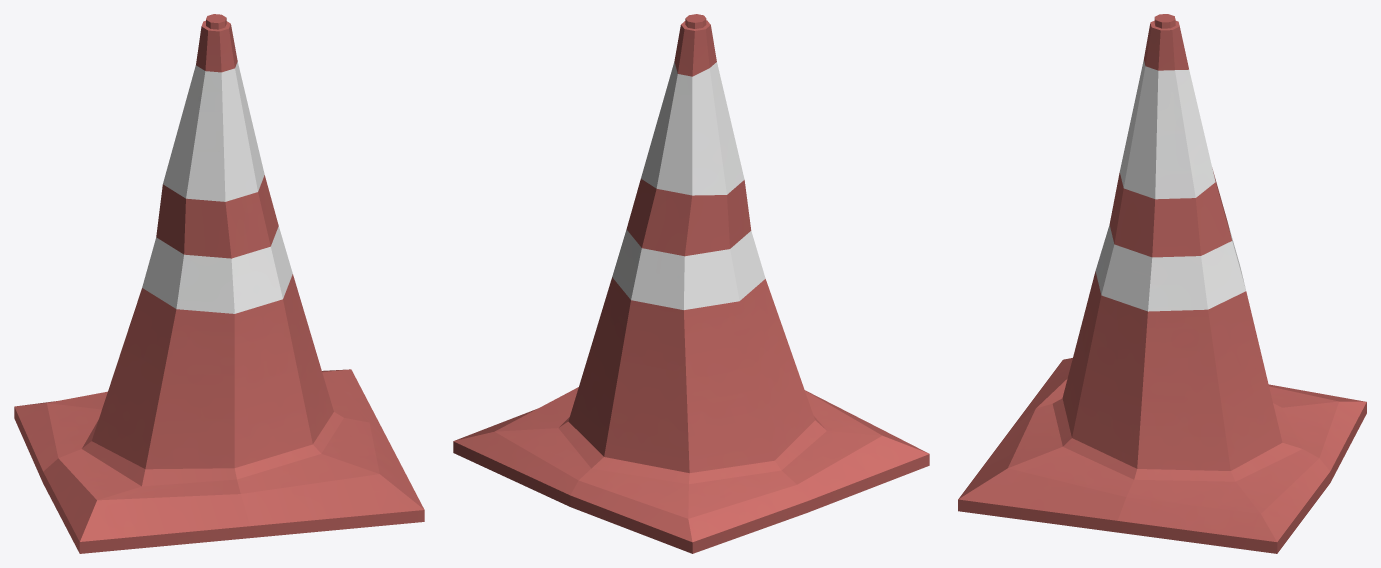
The model's file is road_cone.glb.
3 views of the same model, side by side, from view 1: azimuth 30°, elevation 25°; view 2: azimuth 150°, elevation 25°; view 3: azimuth 270°, elevation 25° (orthographic). The views are drawn at different scales.
Parts seen in each view (by area): view 1: road_cone; view 2: road_cone; view 3: road_cone.
Boxes of the visible parts, x1=… form: road_cone: x1=14, y1=14, x2=424, y2=553; road_cone: x1=453, y1=14, x2=929, y2=553; road_cone: x1=958, y1=14, x2=1366, y2=553.
Size of the model in its own units: 0.7049 by 0.7988 by 0.667.
Materials: 1 (1 with a texture image).
